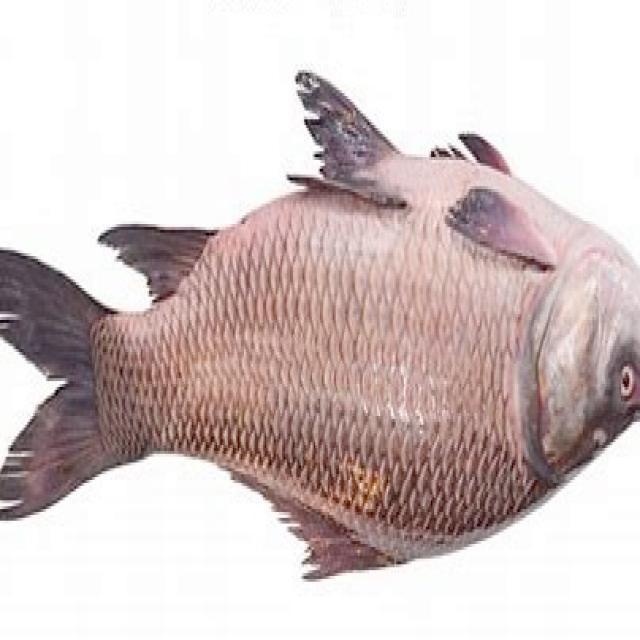Catla: (0, 65, 640, 576)
